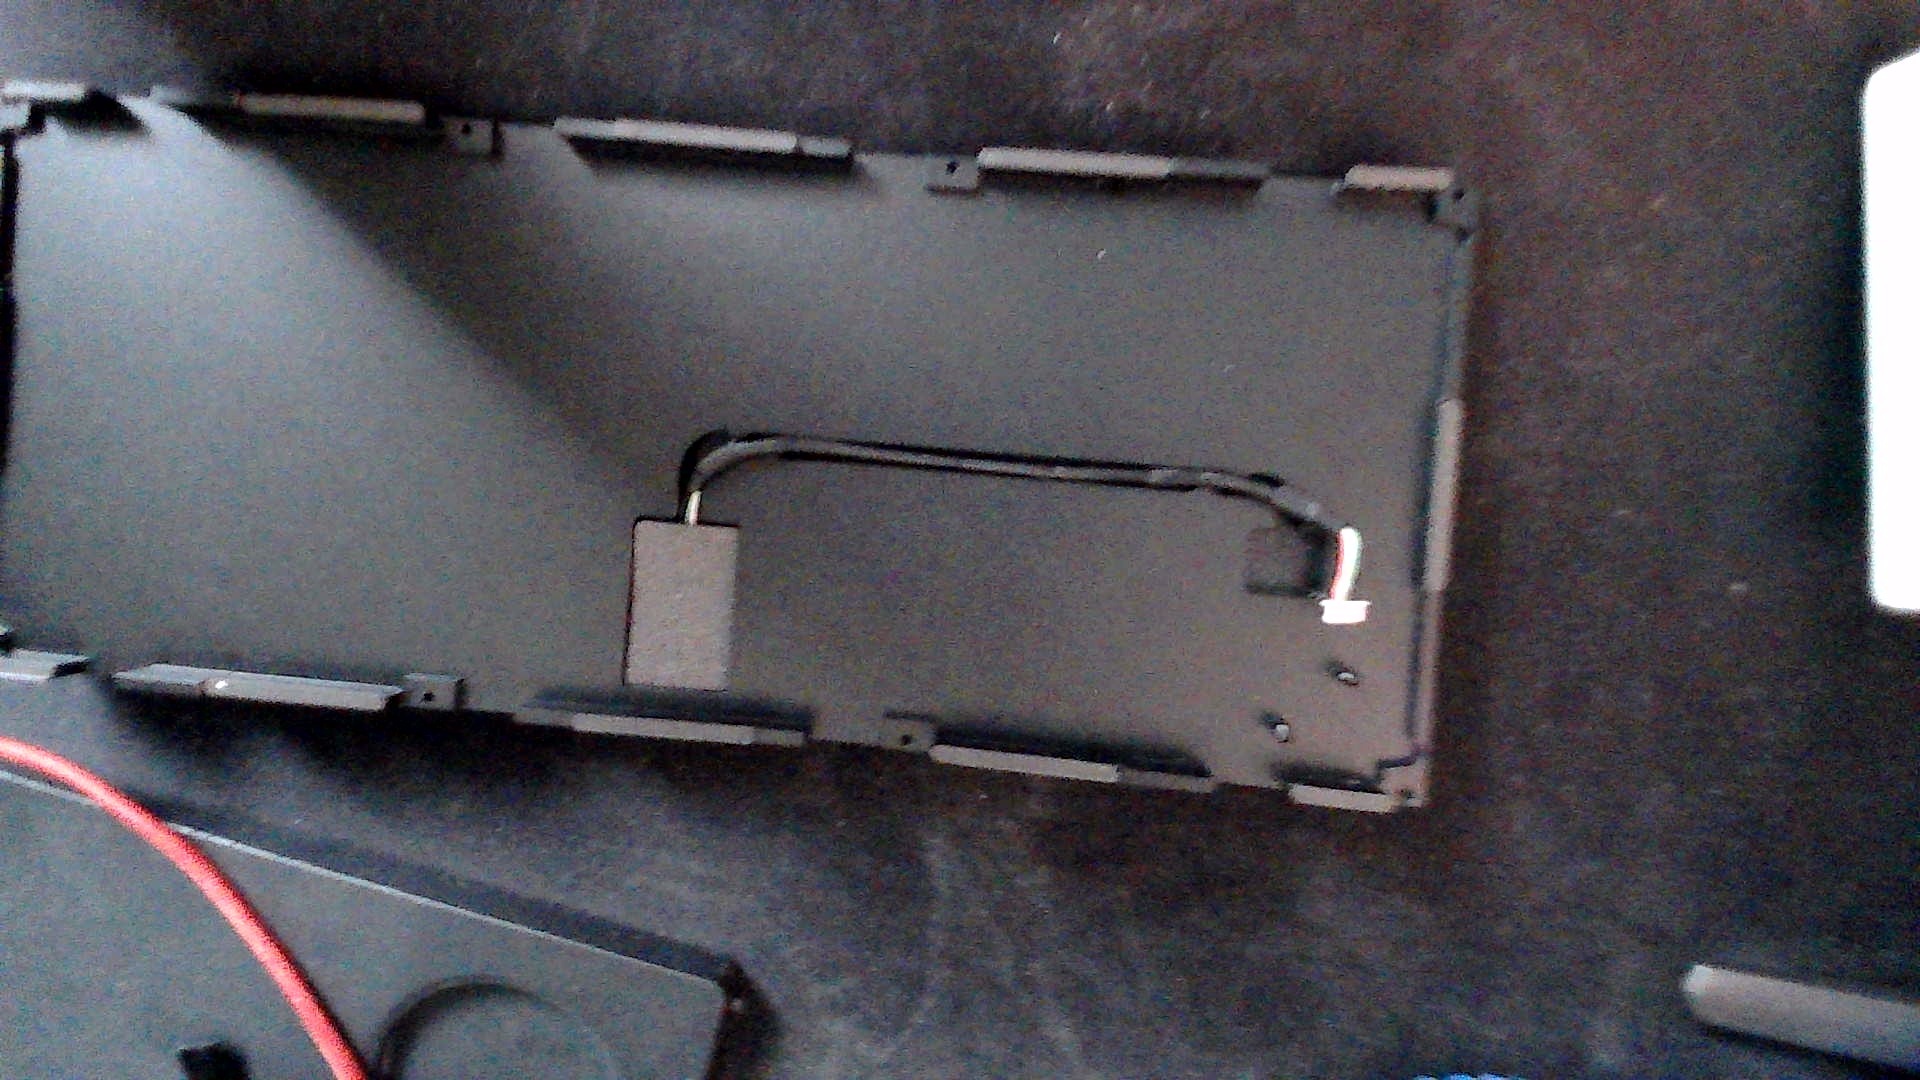case: (0, 51, 1526, 835)
